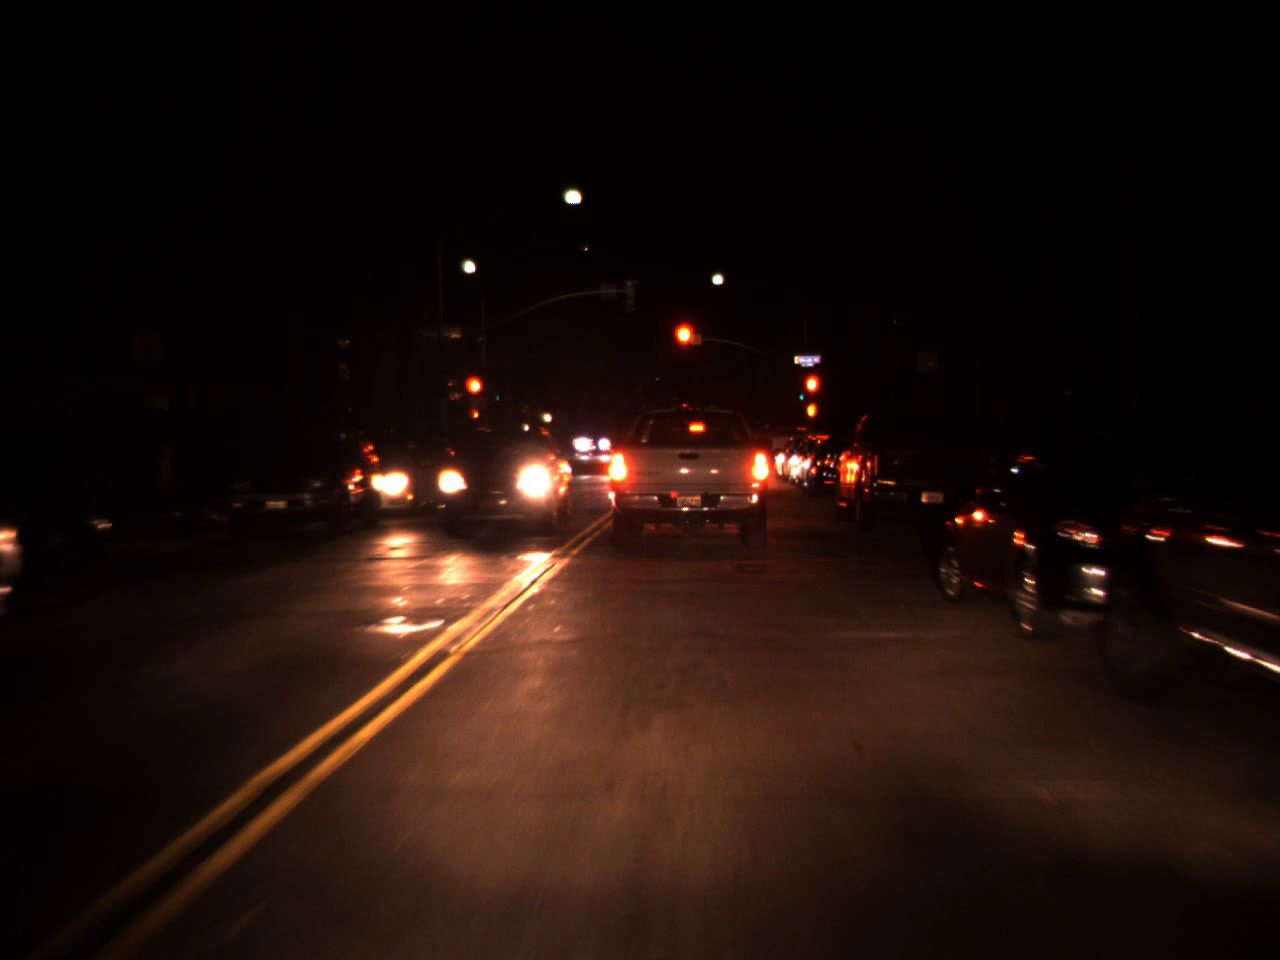stop: (670, 319, 698, 373), (462, 374, 486, 417), (802, 372, 823, 415)
